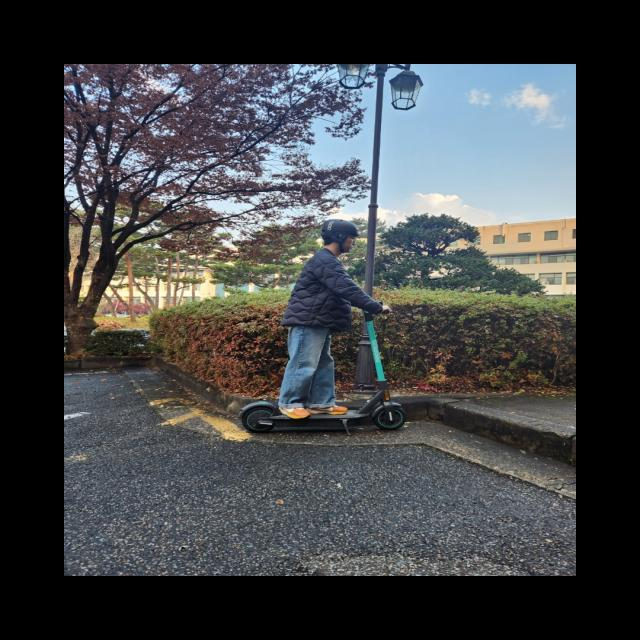Helmet: (312, 210, 365, 266)
